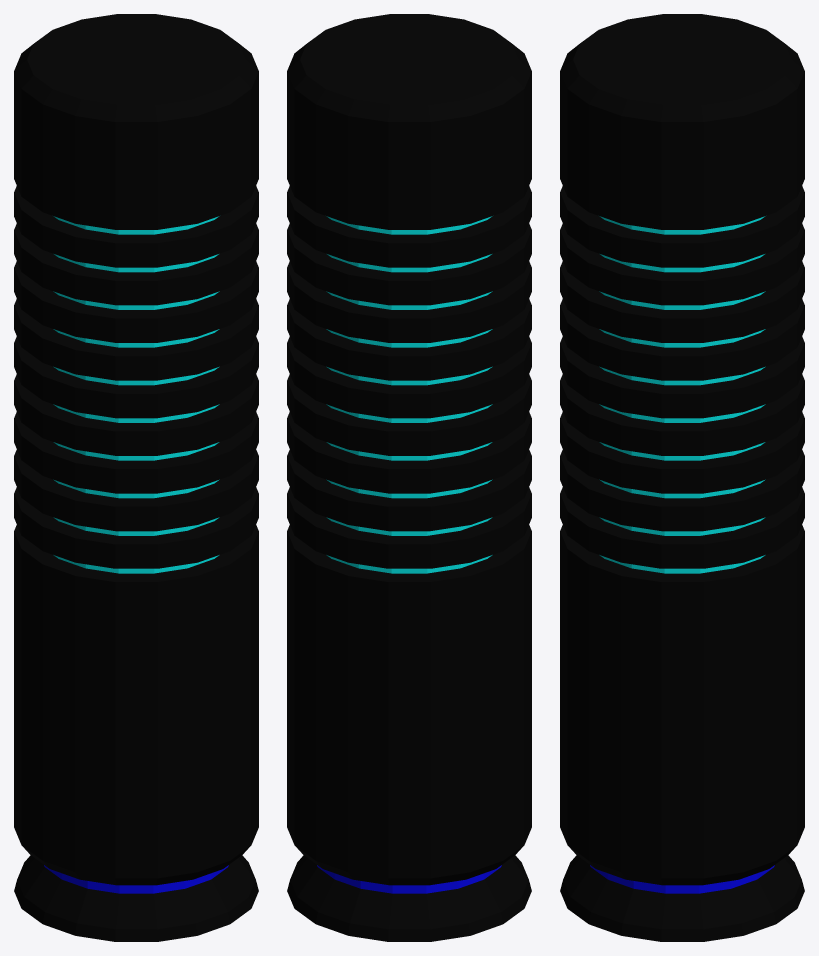
File: lampRoundTable.glb
3 views of the same model, side by side, from view 1: azimuth 30°, elevation 25°; view 2: azimuth 150°, elevation 25°; view 3: azimuth 270°, elevation 25° (orthographic).
Parts seen in each view (by area): view 1: LampRoundTable; view 2: LampRoundTable; view 3: LampRoundTable.
Part boxes in pixels (x1,y1,x2,y2): LampRoundTable: (14,14,258,941); LampRoundTable: (287,14,531,941); LampRoundTable: (560,14,804,941).
Bounding box in the file's own units: 0.1792 × 0.682 × 0.182.
